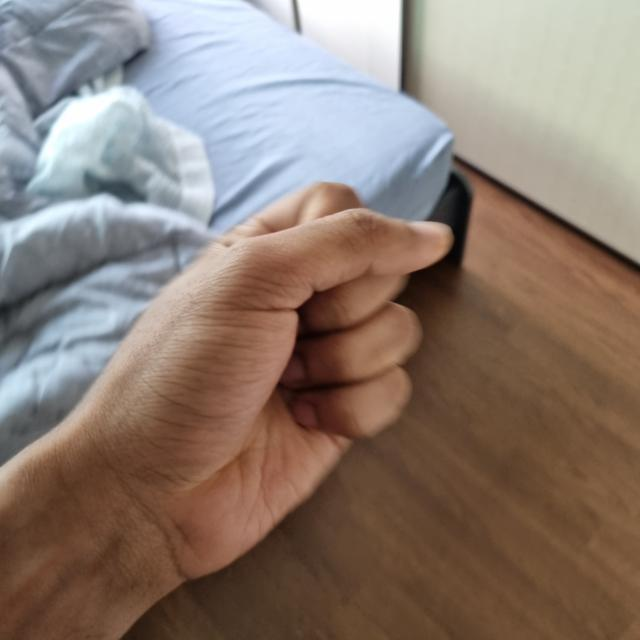Rock: (281, 202, 441, 437)
